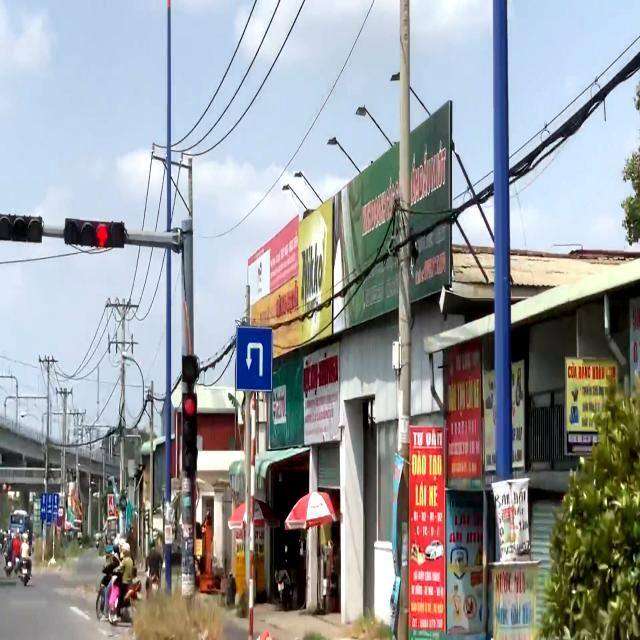Cho quay xe: (235, 328, 273, 388)
